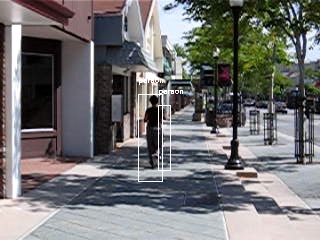person: (144, 95, 167, 170), (143, 95, 166, 170), (145, 95, 168, 170), (144, 94, 167, 169), (144, 96, 167, 171)
target_negative: (76, 29, 266, 208), (224, 71, 294, 148), (231, 36, 299, 100), (253, 68, 289, 152), (129, 48, 135, 129)
